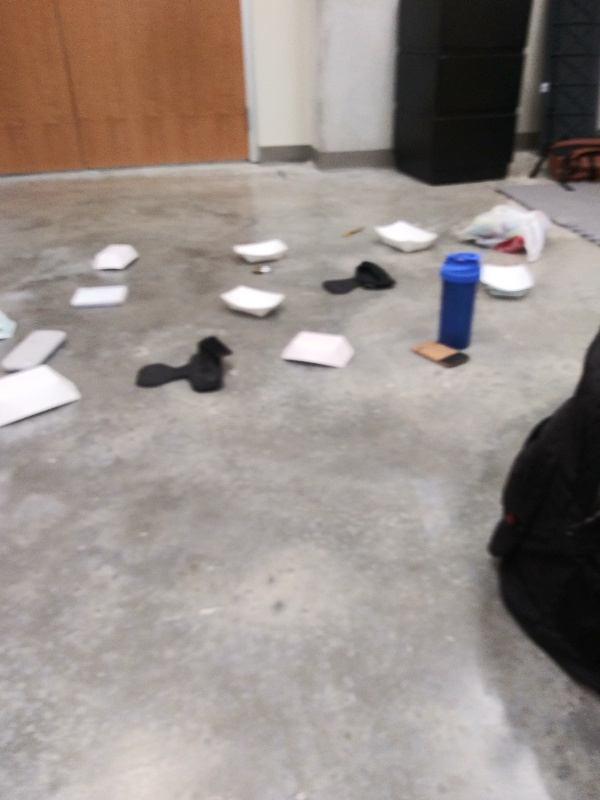plate: (1, 364, 88, 432), (277, 327, 359, 371), (215, 283, 293, 322), (367, 216, 441, 256), (478, 260, 537, 305), (87, 239, 150, 275), (229, 234, 290, 265), (1, 312, 18, 344)
